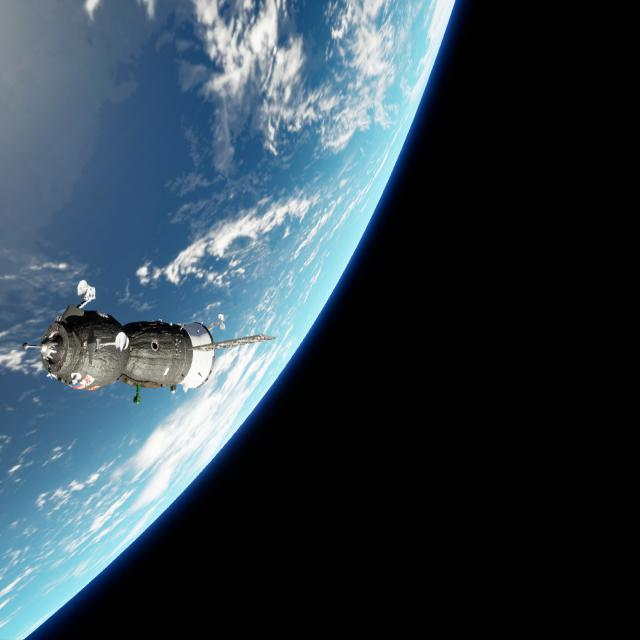Satellites revolving around earth: (21, 279, 277, 405)
